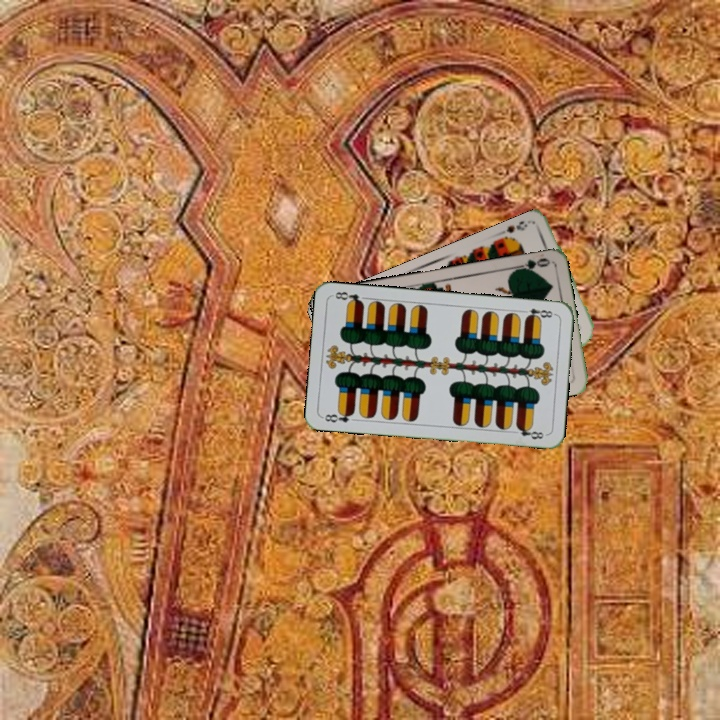E8: (517, 304, 558, 322), (320, 407, 357, 425)
GO: (511, 254, 551, 275)
S9: (497, 217, 530, 245)
